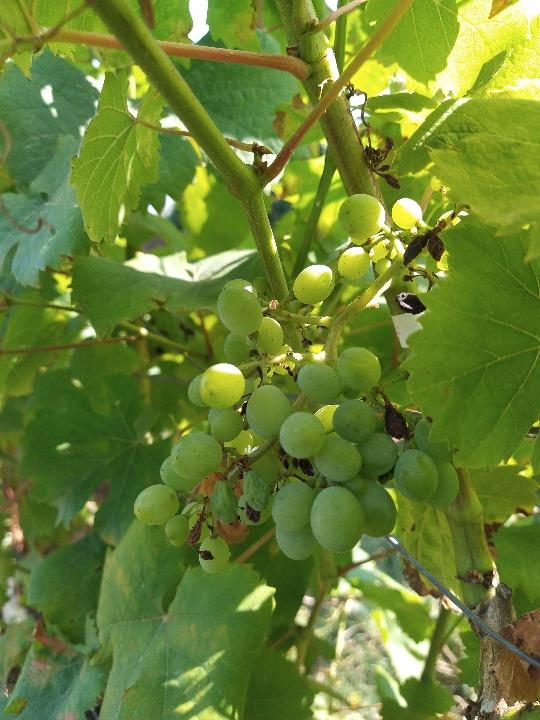grape: (130, 191, 468, 579)
